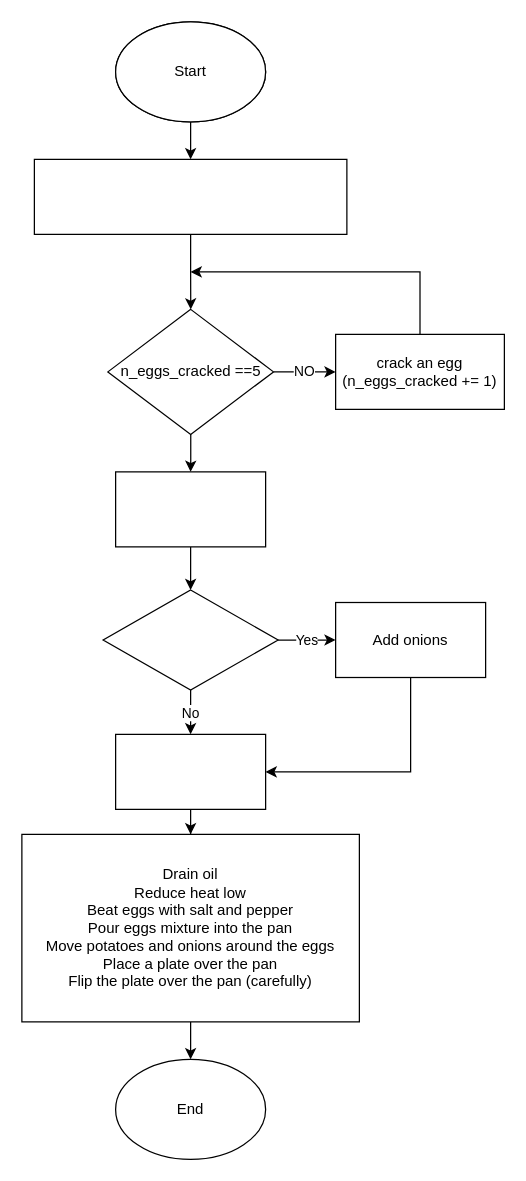
This 526x1181 diagram has some shape labels left out. Each missing label, with the centre of its shape:
Do you wnat onions ?: (x=190, y=639)
Fry potatoes: (x=190, y=509)
Heat the oil in a nonstick medium-sized pan n_eggs_cracked <- 0: (x=190, y=196)
wait: (x=190, y=771)
